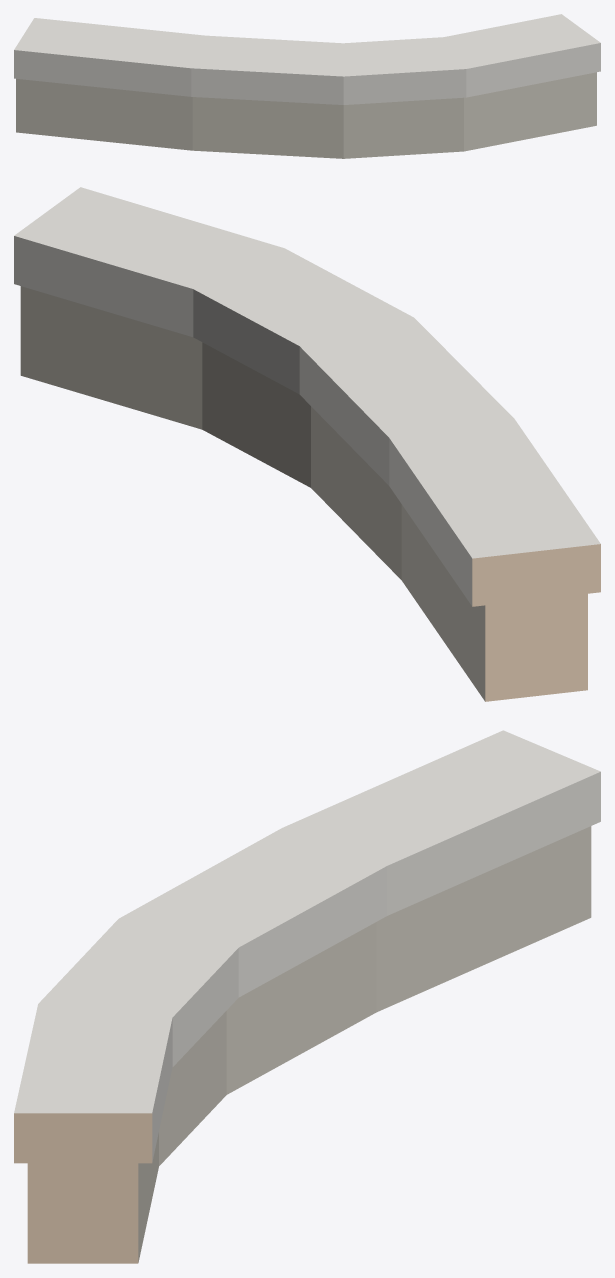
The model's file is Tiered_Retaining_Wall_45_Degrees_Curve_Inner_3x3_Top.glb.
3 views of the same model, one above another, from view 1: azimuth 30°, elevation 25°; view 2: azimuth 150°, elevation 25°; view 3: azimuth 270°, elevation 25° (orthographic). The views are drawn at different scales.
Visible parts, largest first — view 1: Tiered_Retaining_Wall_45_Degrees_Curve_Inner_3x3_Top; view 2: Tiered_Retaining_Wall_45_Degrees_Curve_Inner_3x3_Top; view 3: Tiered_Retaining_Wall_45_Degrees_Curve_Inner_3x3_Top.
Boxes of the visible parts, x1,y1,x2,y2 form: Tiered_Retaining_Wall_45_Degrees_Curve_Inner_3x3_Top: [14, 14, 600, 158]; Tiered_Retaining_Wall_45_Degrees_Curve_Inner_3x3_Top: [14, 187, 600, 701]; Tiered_Retaining_Wall_45_Degrees_Curve_Inner_3x3_Top: [14, 730, 600, 1263].
Size of the model in its own units: 205 by 37.5 by 133.
